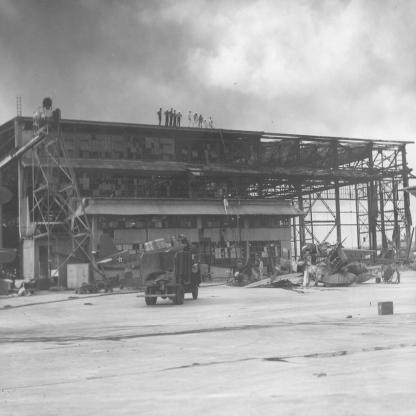Truck: (134, 236, 202, 308)
